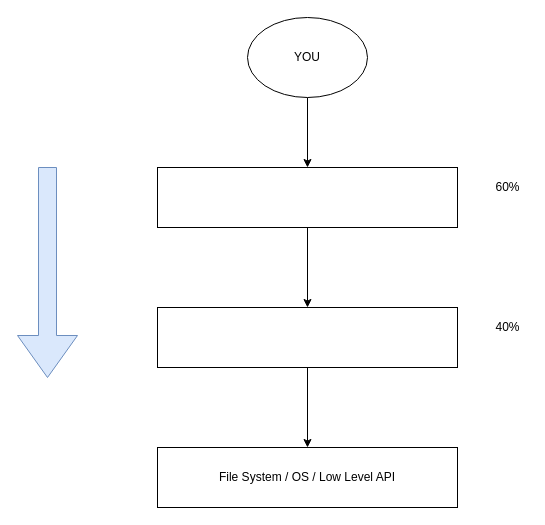
This 545x525 diagram has some shape labels left out. The shapes that lost their labels are listed below. From the top down, each one's centre as x and y in pixels, then its label:
point 307,197: JavaScript API
point 307,337: C++ API
